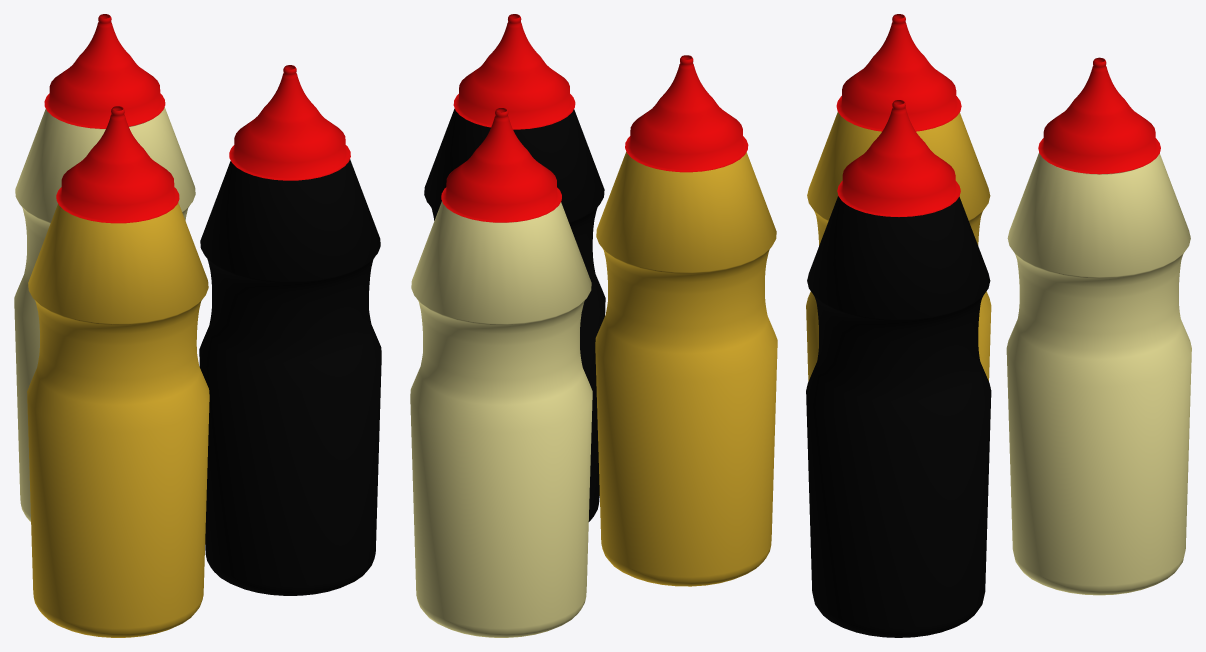
3 views of the same model, side by side, from view 1: azimuth 30°, elevation 25°; view 2: azimuth 150°, elevation 25°; view 3: azimuth 270°, elevation 25° (orthographic).
Parts seen in each view (by area): view 1: body3.002_1, body3.003_2, body3.001_0, head3.002_4, head3.003_5, head3.001_3; view 2: body3.001_0, body3.002_1, body3.003_2, head3.002_4, head3.001_3, head3.003_5; view 3: body3.001_0, body3.003_2, body3.002_1, head3.003_5, head3.001_3, head3.002_4.
Part boxes in pixels (box(x1,y1,x2,y2)): body3.002_1: box(27, 202, 209, 637); body3.003_2: box(199, 159, 381, 595); body3.001_0: box(14, 107, 195, 521); head3.002_4: box(56, 106, 179, 223); head3.003_5: box(229, 65, 350, 180); head3.001_3: box(44, 14, 165, 128); body3.001_0: box(410, 201, 592, 637); body3.002_1: box(595, 151, 777, 586); body3.003_2: box(424, 108, 605, 521); head3.002_4: box(625, 55, 748, 172); head3.001_3: box(441, 108, 561, 222); head3.003_5: box(453, 14, 575, 129); body3.001_0: box(1006, 152, 1191, 595); body3.003_2: box(806, 196, 991, 637); body3.002_1: box(806, 112, 991, 381); head3.003_5: box(837, 100, 960, 216); head3.001_3: box(1038, 57, 1160, 174); head3.002_4: box(836, 14, 961, 131).
Size of the model in its own units: 0.1457 by 0.21 by 0.1454.
